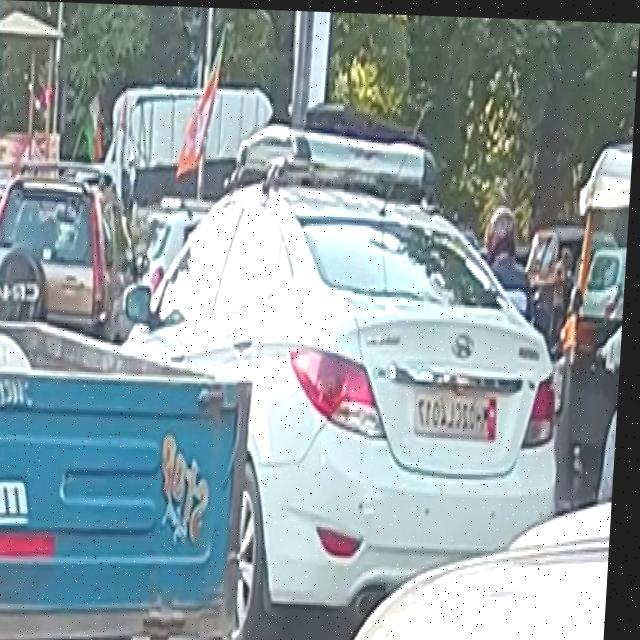plate: (418, 383, 502, 436)
